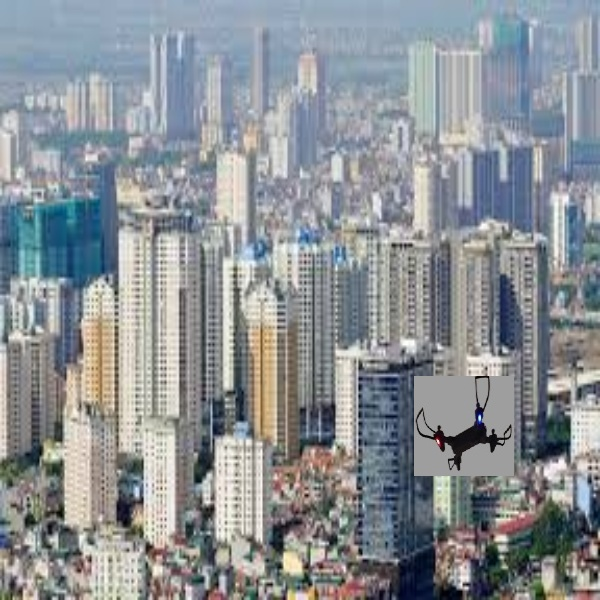drone: (415, 376, 511, 477)
